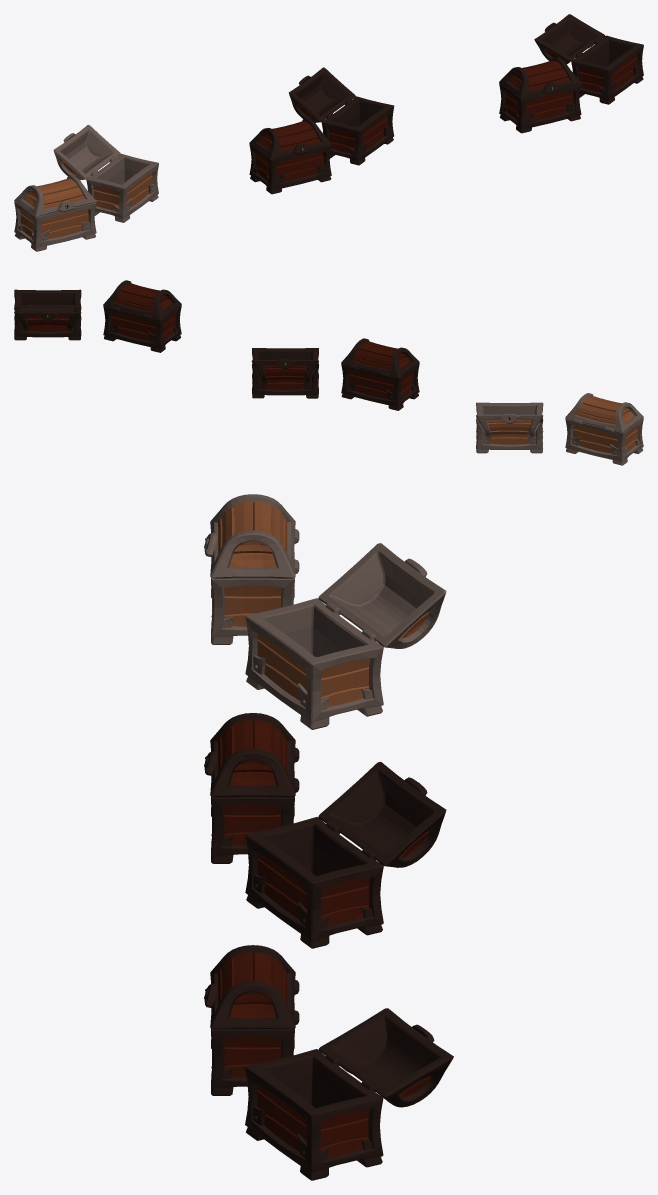
Rendered from Treasure Chest 1.fbx.
3 renders of one model, top to bottom at view 1: azimuth 30°, elevation 25°; view 2: azimuth 150°, elevation 25°; view 3: azimuth 270°, elevation 25°, orthographic. The views are drawn at different scales.
Parts seen in each view (by area): view 1: Chest_Box001, Chest_Box003, Chest_Box006, Chest_Box, Chest_Box004, Chest_Box002; view 2: Chest_Box004, Chest_Box, Chest_Box002, Chest_Box006, Chest_Box001, Chest_Box003; view 3: Chest_Box001, Chest_Box003, Chest_Box006, Chest_Box, Chest_Box002, Chest_Box004.
Boxes of the visible parts, x1=… form: Chest_Box001: x1=288, y1=67, x2=394, y2=165; Chest_Box003: x1=53, y1=125, x2=158, y2=222; Chest_Box006: x1=534, y1=14, x2=643, y2=104; Chest_Box: x1=249, y1=118, x2=331, y2=194; Chest_Box004: x1=499, y1=57, x2=581, y2=133; Chest_Box002: x1=14, y1=175, x2=96, y2=251; Chest_Box004: x1=103, y1=280, x2=181, y2=352; Chest_Box: x1=341, y1=338, x2=419, y2=410; Chest_Box002: x1=565, y1=393, x2=643, y2=465; Chest_Box006: x1=14, y1=289, x2=81, y2=340; Chest_Box001: x1=252, y1=348, x2=318, y2=398; Chest_Box003: x1=476, y1=402, x2=543, y2=453; Chest_Box001: x1=245, y1=762, x2=446, y2=948; Chest_Box003: x1=245, y1=543, x2=446, y2=729; Chest_Box006: x1=245, y1=1008, x2=453, y2=1180; Chest_Box: x1=204, y1=713, x2=299, y2=863; Chest_Box002: x1=204, y1=494, x2=299, y2=644; Chest_Box004: x1=204, y1=945, x2=299, y2=1095.
Size of the model in its own units: 1576 by 138 by 282.
